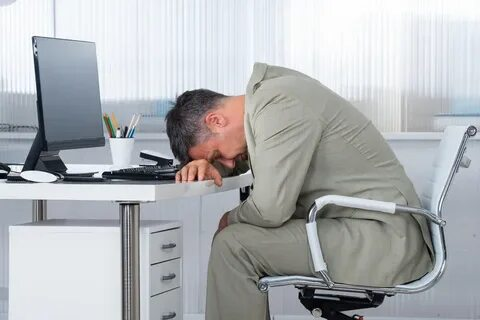sleep: (164, 61, 434, 320)
